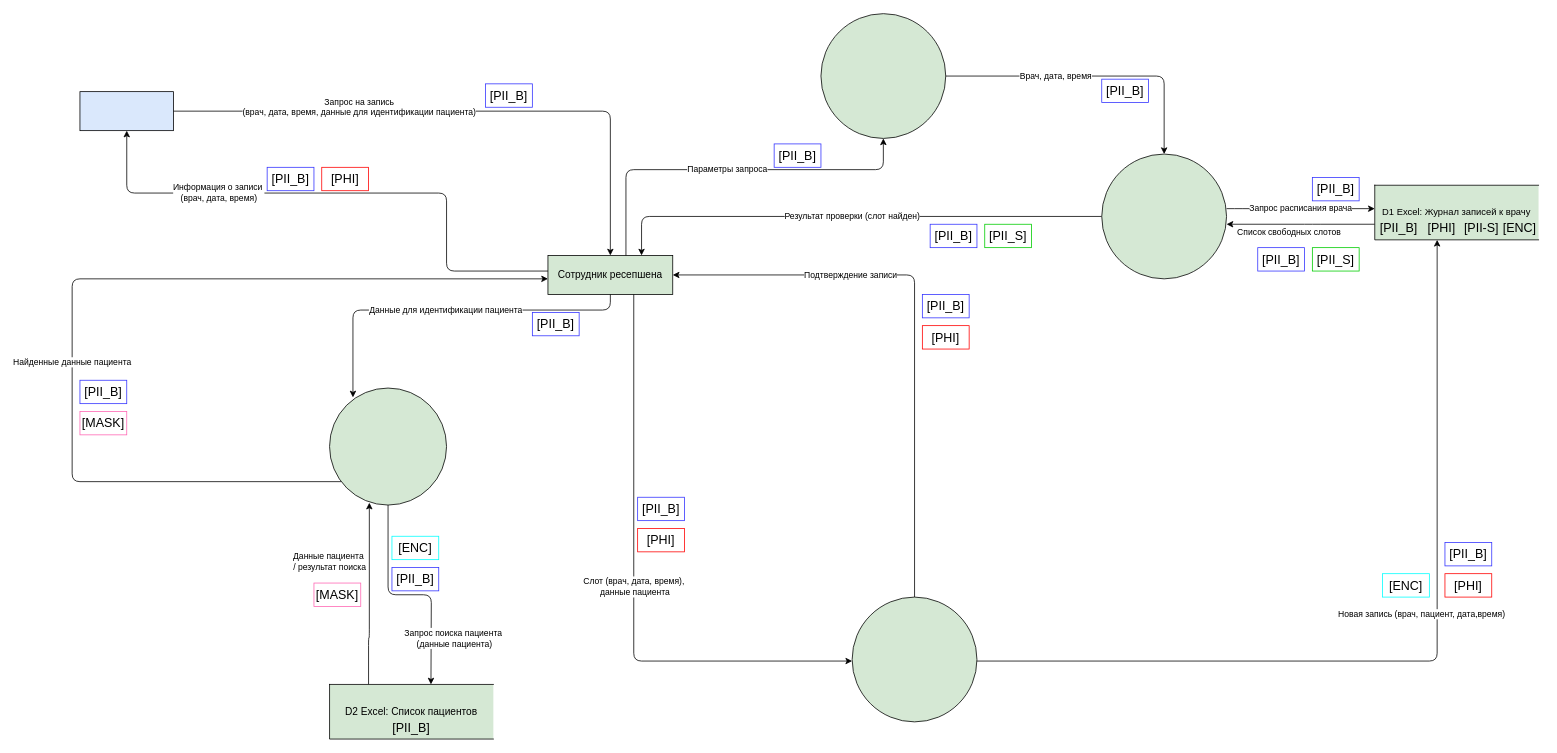
Image size: 1557x753. Some labels were removed from this diagram. Each missing label, with the centre of its shape:
"P1 Принятие запроса на запись" goes at (x=883, y=75).
"P2 Проверка наличия слота для записи" goes at (x=1164, y=216).
"P3 Поиск пациента в реестре" goes at (x=388, y=446).
"P4 Создание записи на приём" goes at (x=914, y=659).
"Пациент" goes at (x=126, y=111).
